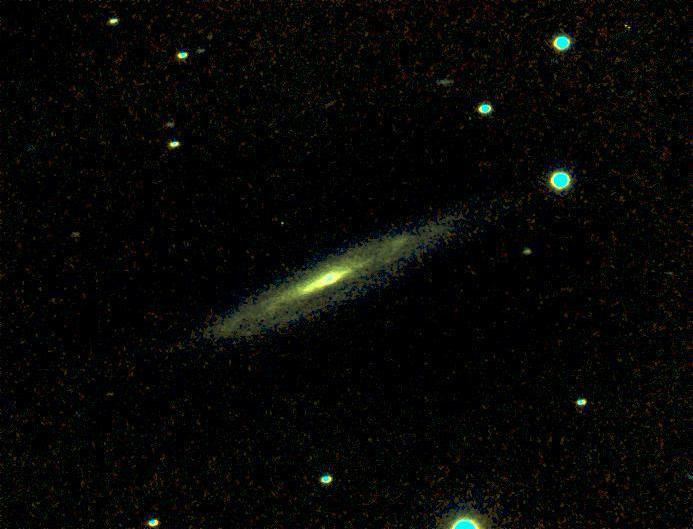star: (93, 380, 123, 410)
